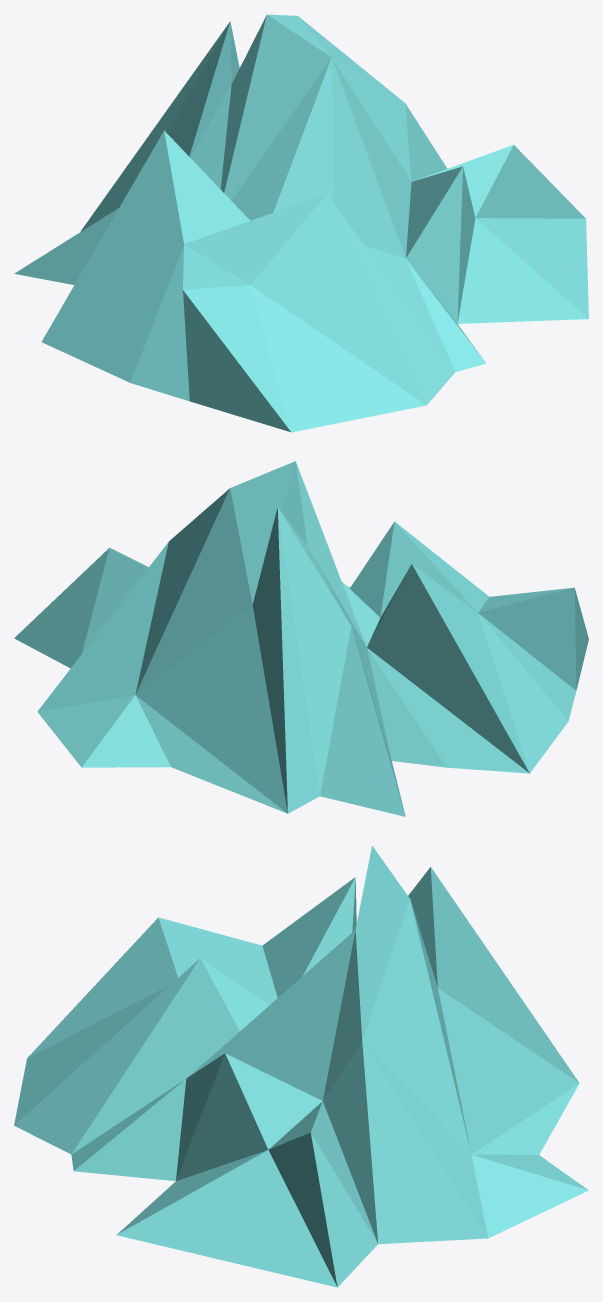
The model's file is iceberg8.fbx.
The picture shows the model from 3 angles, top to bottom: view 1: azimuth 30°, elevation 25°; view 2: azimuth 150°, elevation 25°; view 3: azimuth 270°, elevation 25°; orthographic projection. The views are drawn at different scales.
Visible parts, largest first — view 1: berg 2; view 2: berg 2; view 3: berg 2.
Boxes of the visible parts, x1,y1,x2,y2 form: berg 2: (14, 14, 588, 432); berg 2: (14, 461, 588, 816); berg 2: (14, 845, 588, 1287).
Bounding box in the file's own units: 4916 × 2339 × 4285.
